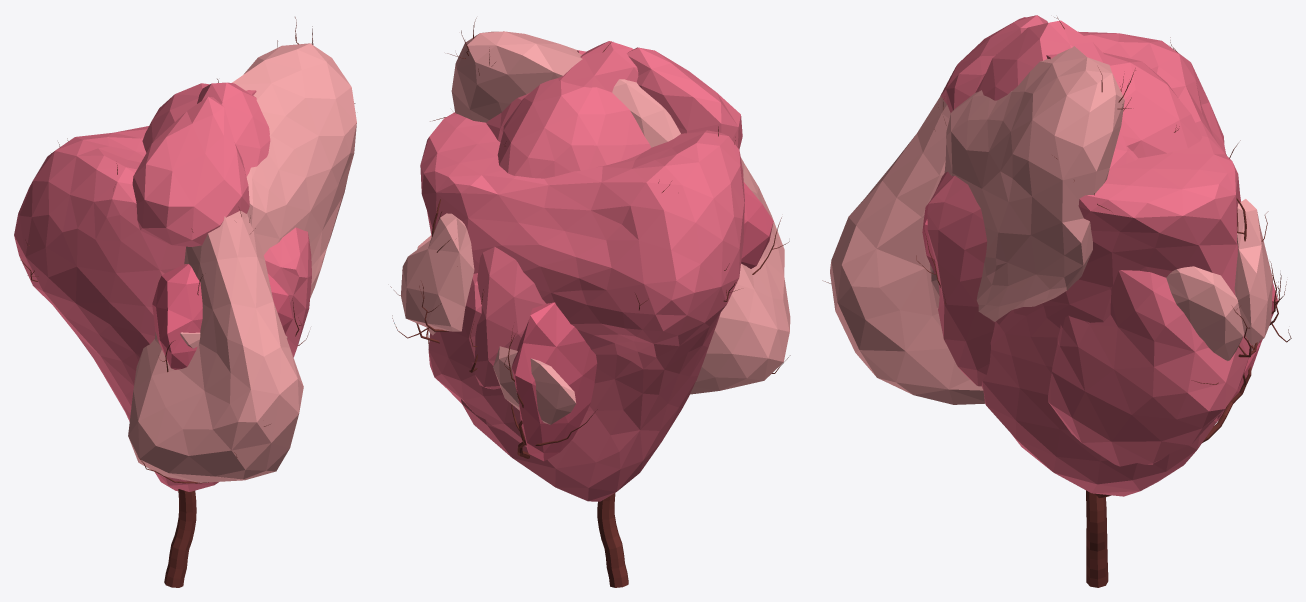
Rendered from tree-004.fbx.
The picture shows the model from 3 angles, left to right: view 1: azimuth 30°, elevation 25°; view 2: azimuth 150°, elevation 25°; view 3: azimuth 270°, elevation 25°; orthographic projection. The views are drawn at different scales.
Parts seen in each view (by area): view 1: tree30; view 2: tree30; view 3: tree30.
Part boxes in pixels (x1=…): tree30: x1=14, y1=17, x2=356, y2=587; tree30: x1=390, y1=18, x2=790, y2=587; tree30: x1=822, y1=15, x2=1291, y2=587.
Bounding box in the file's own units: 412 × 657 × 471.
